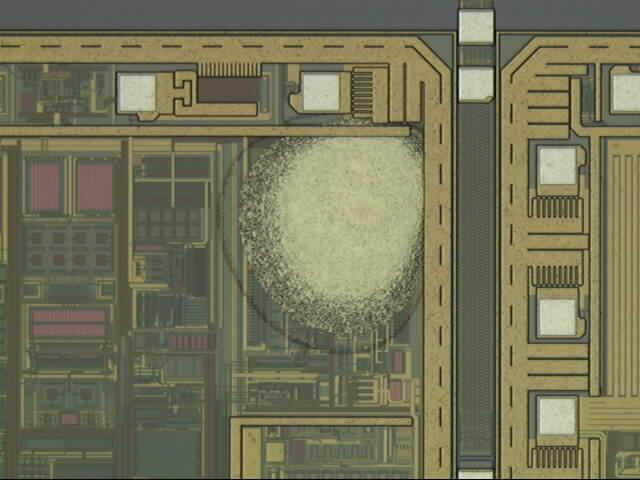BLOCK ETCH: (216, 103, 453, 363)
